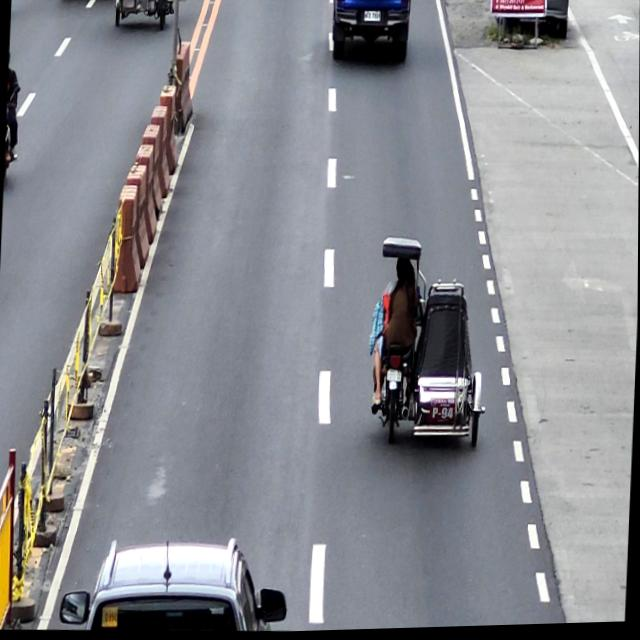Car: (59, 532, 292, 638), (330, 0, 411, 66)
License-Plate: (387, 368, 403, 385), (363, 12, 381, 24)
Tricycle: (372, 235, 491, 455)
